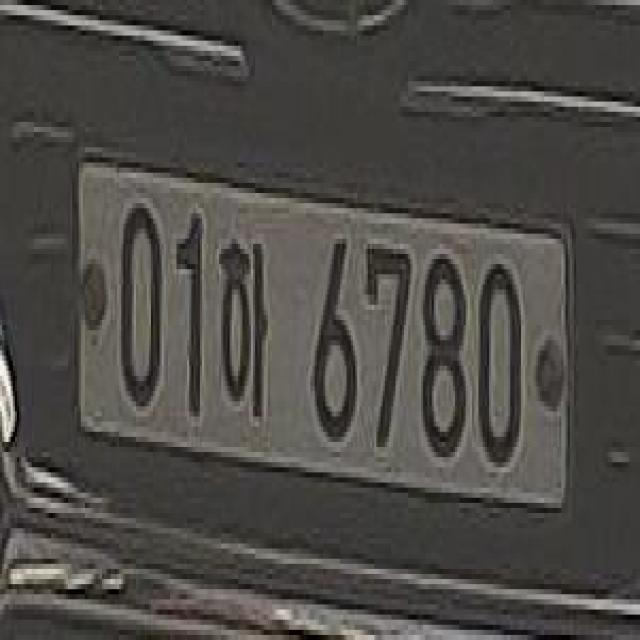illegal_plate: (69, 146, 578, 562)
